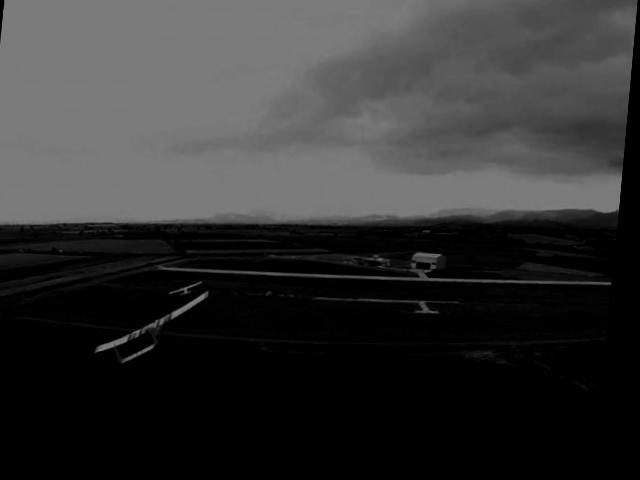hedef: (93, 283, 221, 380)
